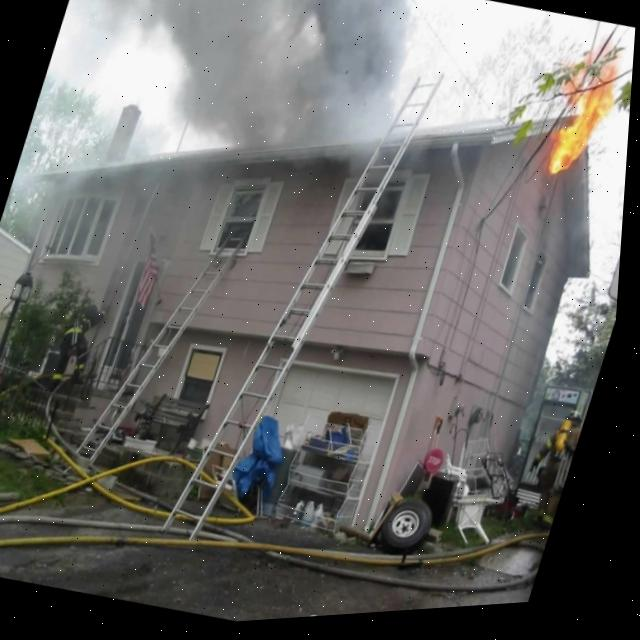fire: (550, 69, 619, 181)
smoke: (112, 0, 411, 150)
